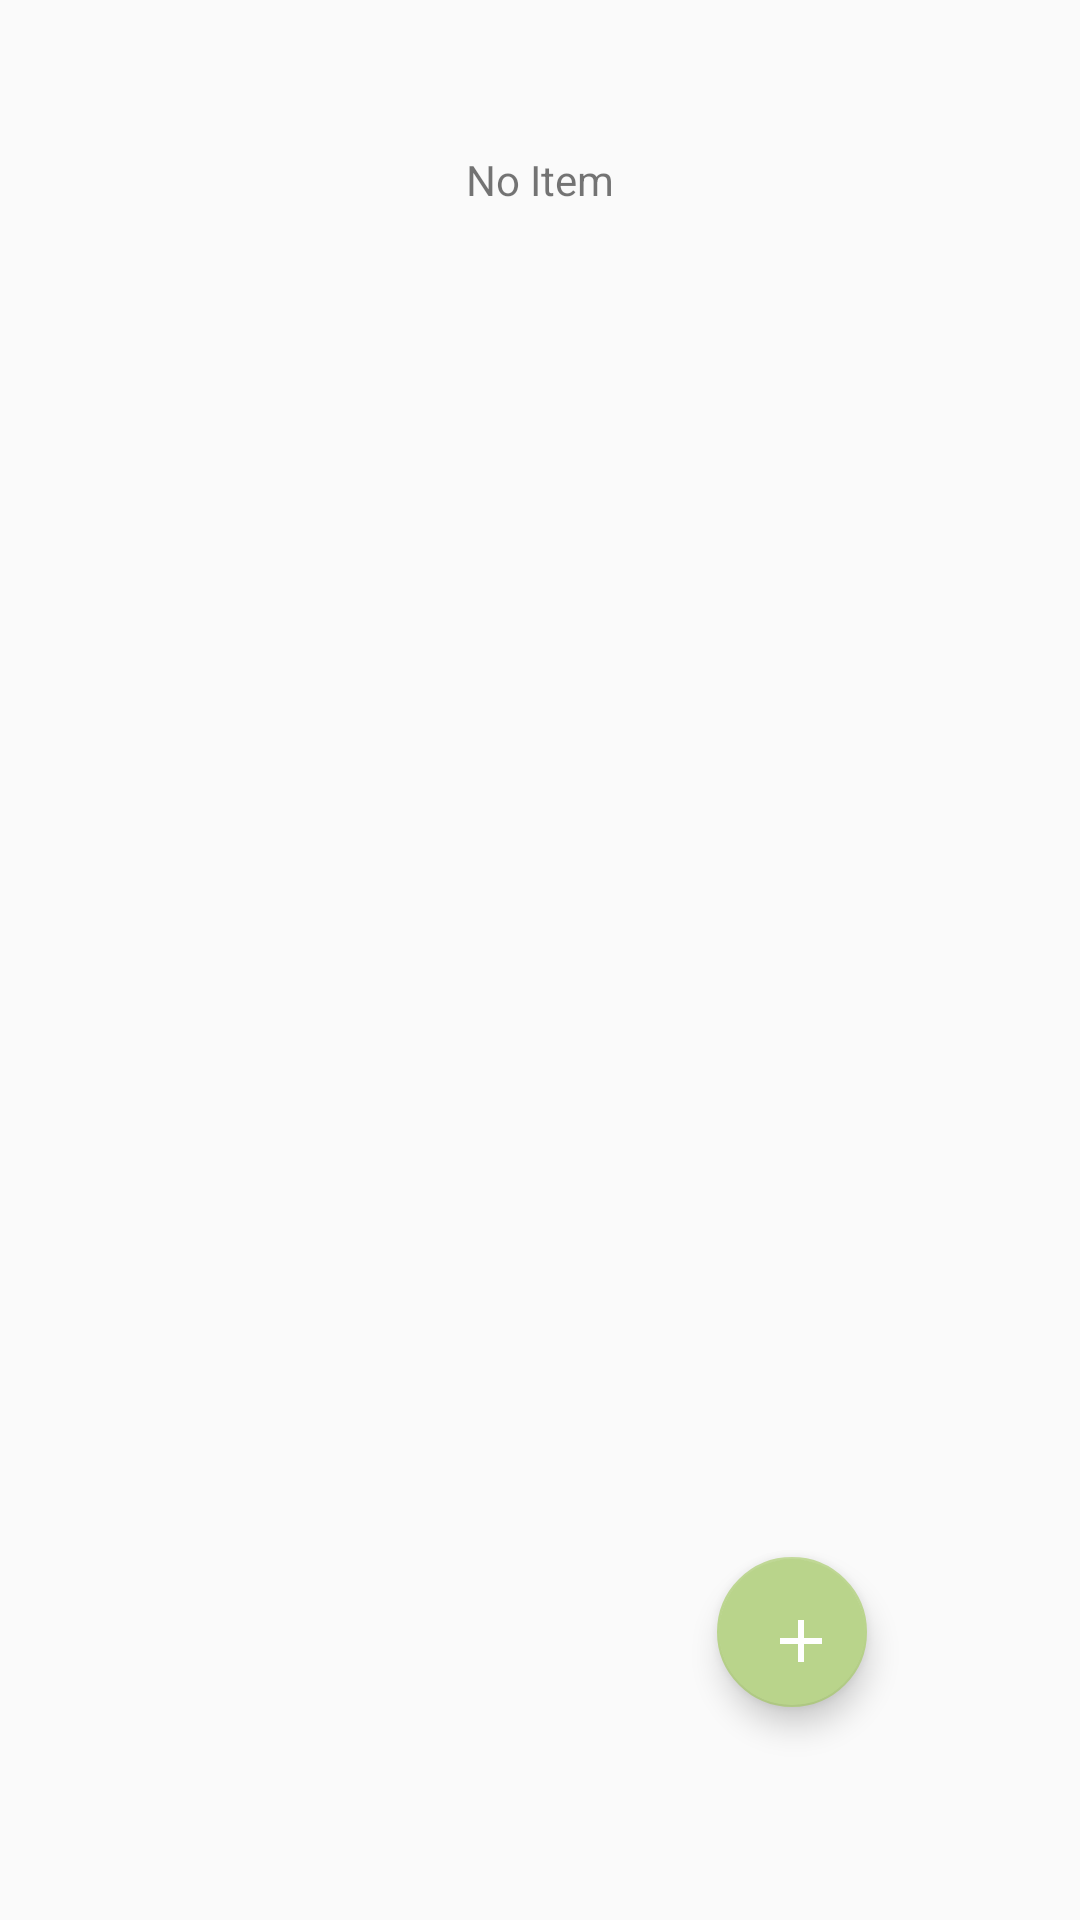

Screen size 1080 x 1920. Icon name, then its box in pixels as (x1, y1, x2, y2):
add: (717, 1557, 867, 1707)
